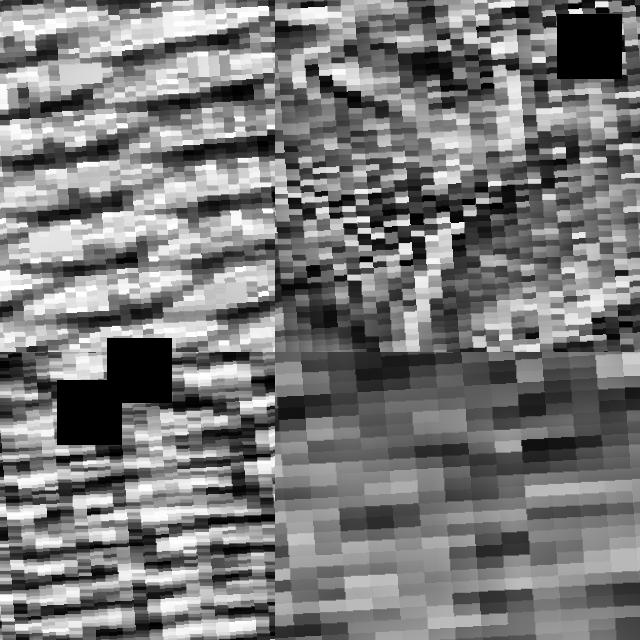crab: (275, 0, 640, 352), (275, 352, 640, 640)
fish: (0, 0, 275, 352), (0, 352, 275, 640)
